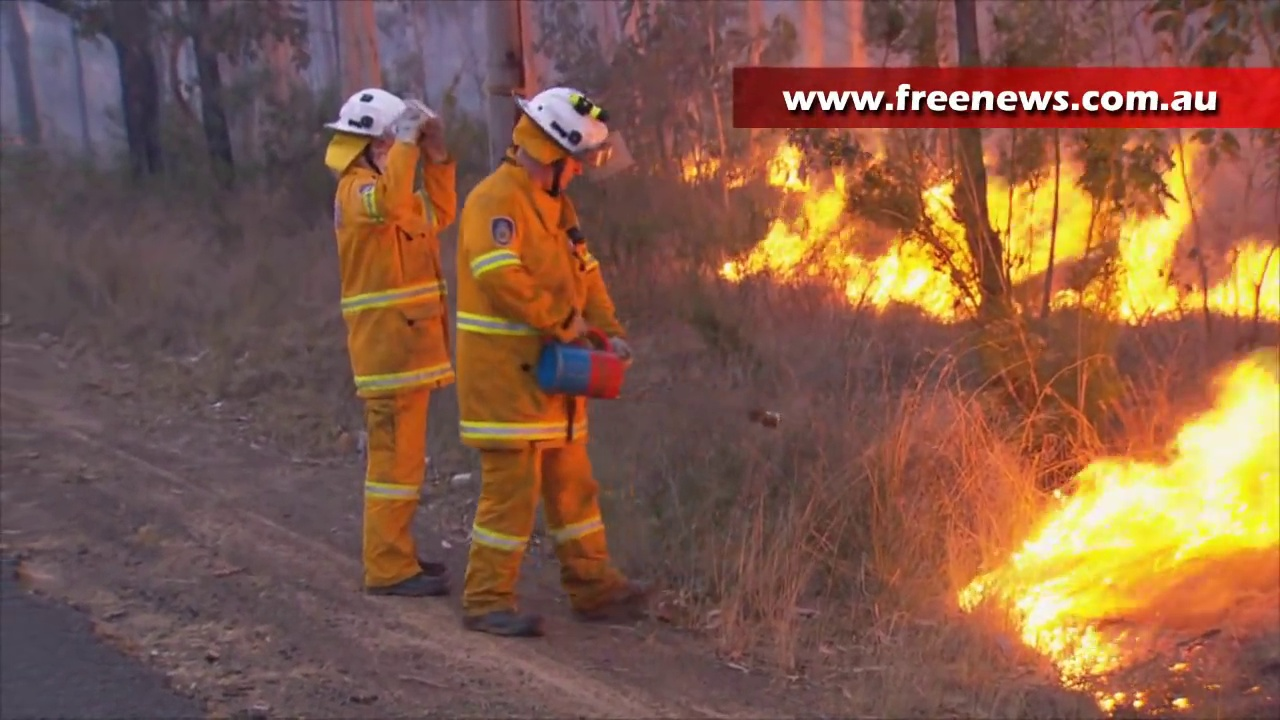fire: (966, 346, 1280, 666), (846, 182, 973, 314), (1111, 136, 1196, 318), (727, 165, 836, 288), (987, 159, 1093, 274), (1225, 244, 1280, 319), (768, 139, 806, 186)
